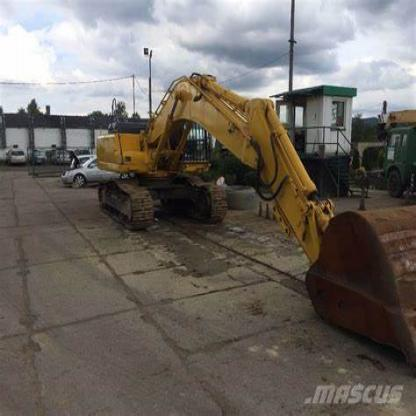excavator: (88, 58, 415, 369)
